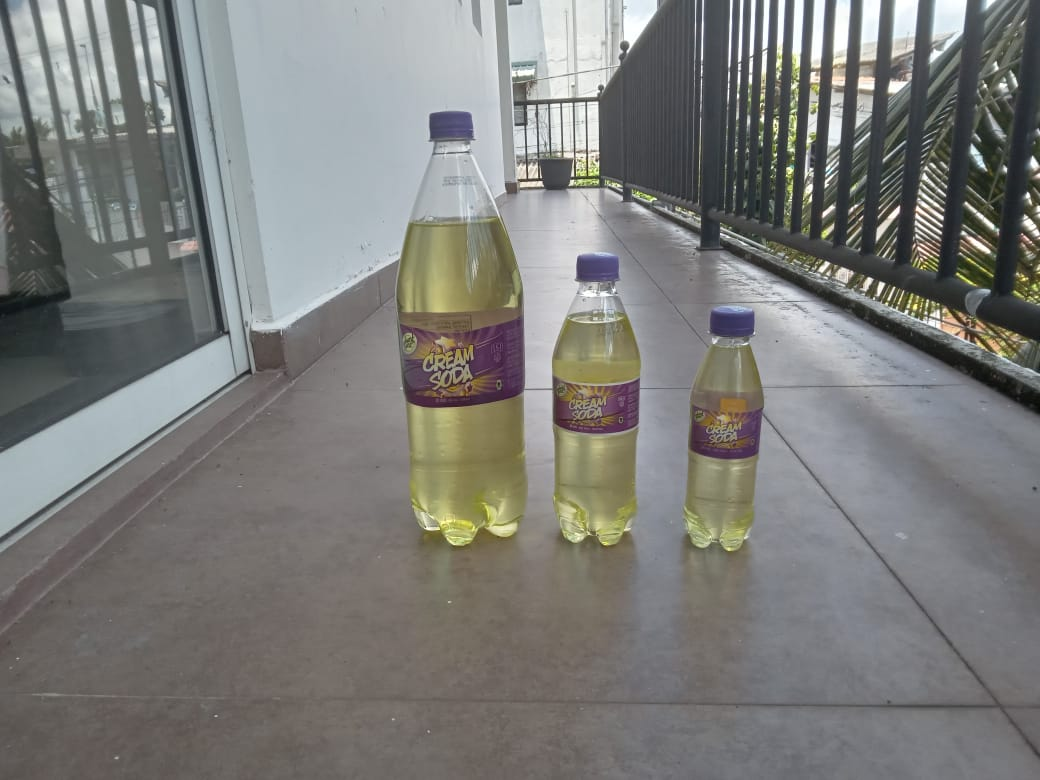L: (394, 116, 527, 543)
S: (554, 249, 641, 547)
Xs: (687, 308, 766, 552)
